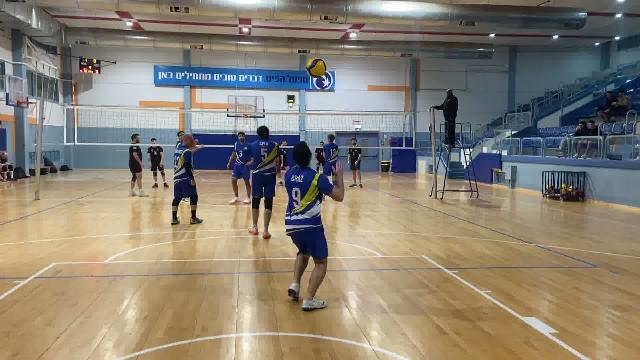ball: (307, 57, 327, 77)
